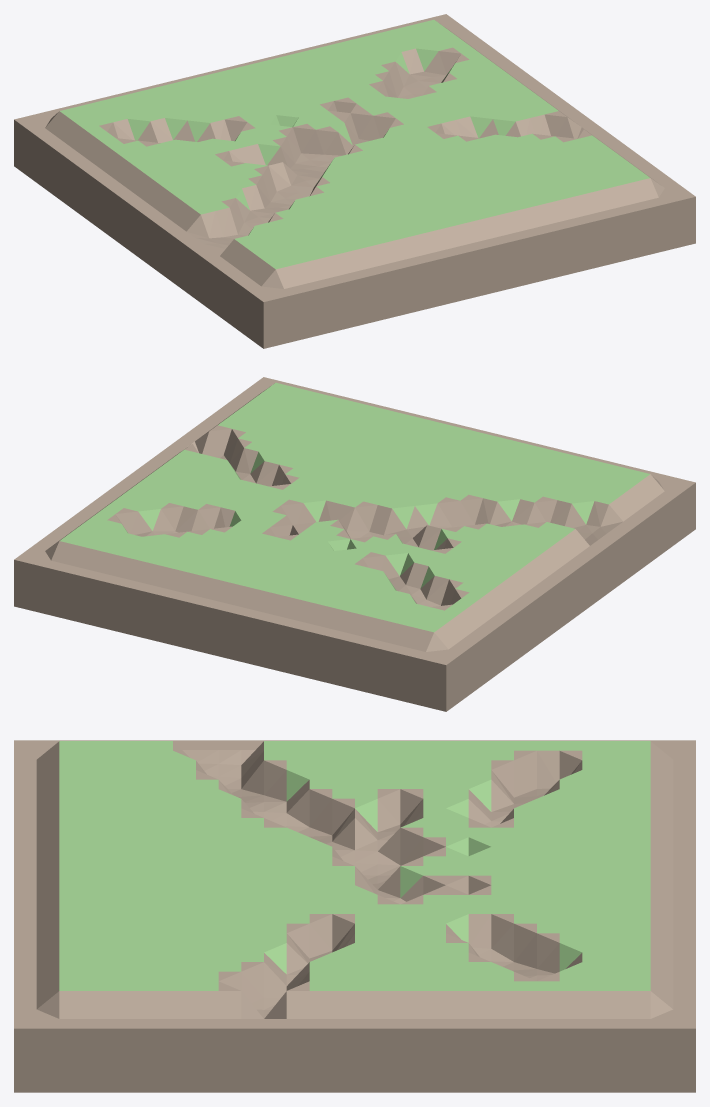
Rendered from Diorama_Terrain_Mesh.fbx.
3 views of the same model, one above another, from view 1: azimuth 30°, elevation 25°; view 2: azimuth 150°, elevation 25°; view 3: azimuth 270°, elevation 25° (orthographic). The views are drawn at different scales.
Parts seen in each view (by area): view 1: Diorama_Terrain_Mesh; view 2: Diorama_Terrain_Mesh; view 3: Diorama_Terrain_Mesh.
Boxes of the visible parts, x1,y1,x2,y2 form: Diorama_Terrain_Mesh: [14, 14, 695, 348]; Diorama_Terrain_Mesh: [14, 377, 695, 711]; Diorama_Terrain_Mesh: [14, 740, 695, 1092].
Size of the model in its own units: 1500 by 1500 by 200.
